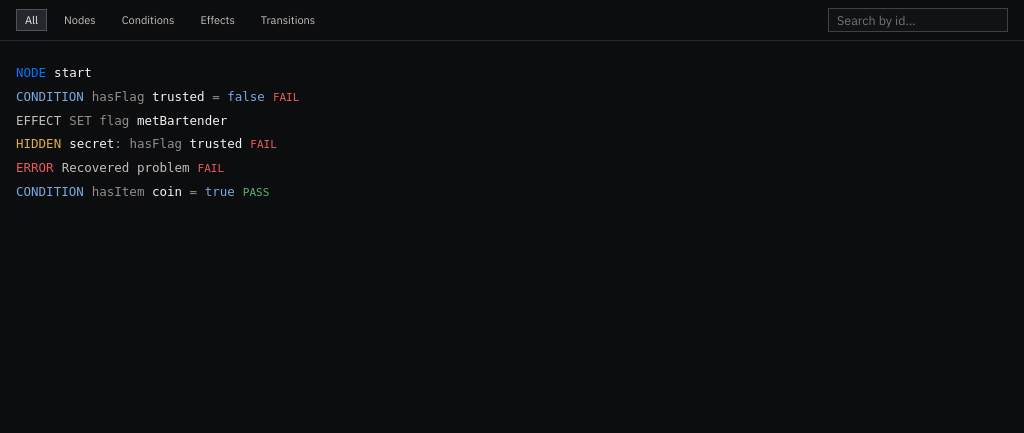
it: DebugTrace › explains an empty event category and returns to all events
Click the button "Transitions" at (288, 20), box [252,9,324,31]
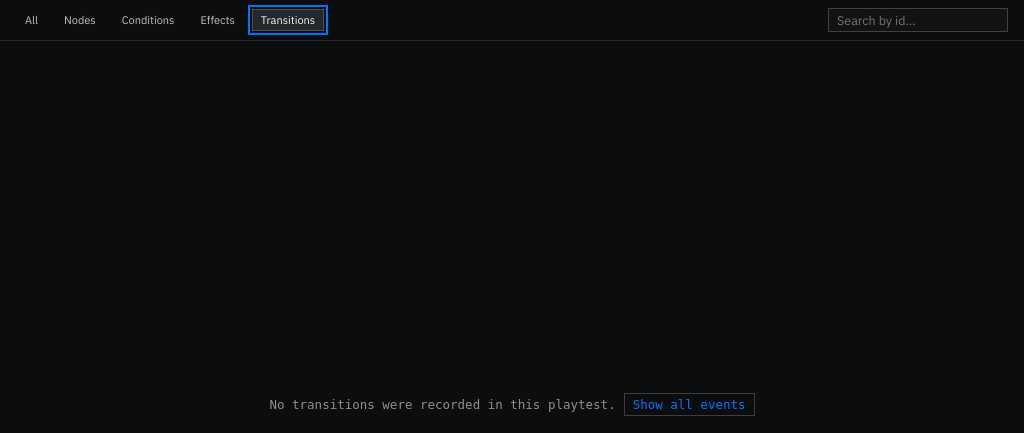
Expected: the text "No transitions were recorded in this playtest." is shown, [270,393,616,416]
Click the button "Show all events" at (689, 404), box [624,393,754,416]
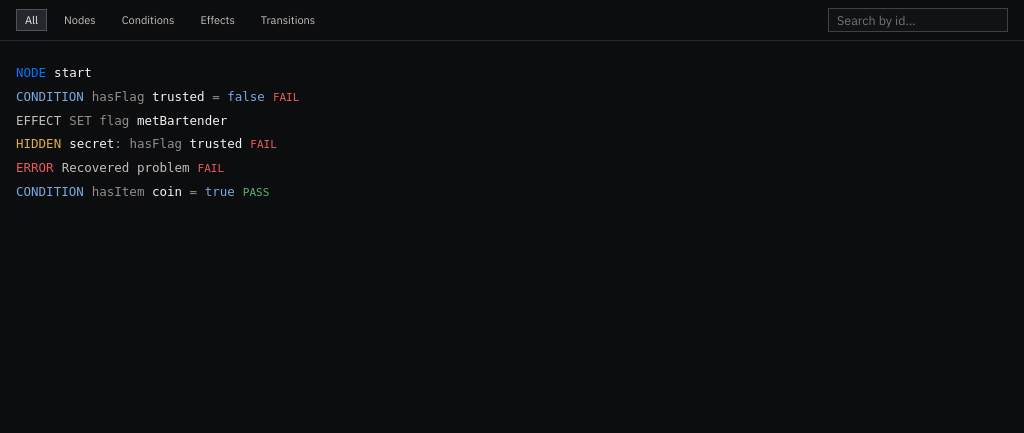
Expected: the text "metBartender" is shown, [129,113,227,128]
